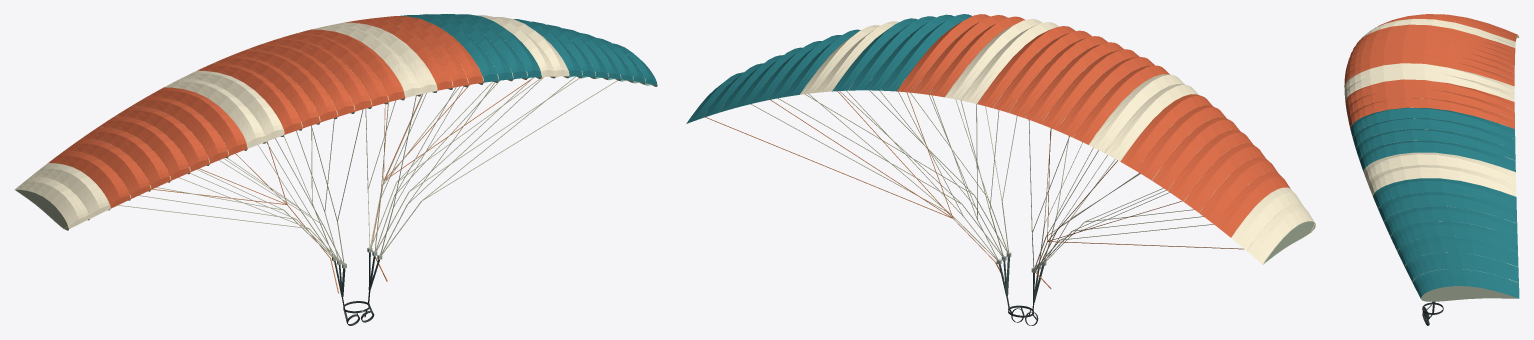
File: parafoil.meshopt.glb
3 views of the same model, side by side, from view 1: azimuth 30°, elevation 25°; view 2: azimuth 150°, elevation 25°; view 3: azimuth 270°, elevation 25° (orthographic). The views are drawn at different scales.
Visible parts, largest first — view 1: parafoil; view 2: parafoil; view 3: parafoil.
Part boxes in pixels (box(x1,y1,x2,y2)): parafoil: box(14, 14, 657, 325); parafoil: box(686, 14, 1315, 325); parafoil: box(1344, 14, 1519, 325).
Size of the model in its own units: 11.61 by 5.45 by 3.29.
